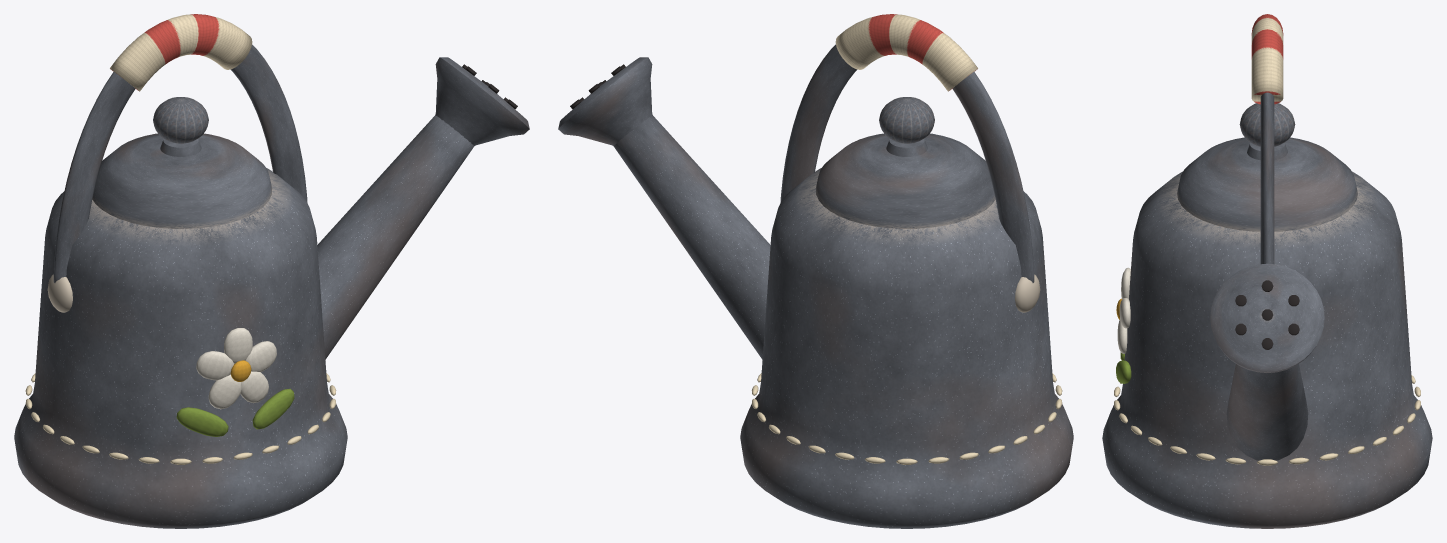
Rendered from watering_can.glb.
The picture shows the model from 3 angles, left to right: view 1: azimuth 30°, elevation 25°; view 2: azimuth 150°, elevation 25°; view 3: azimuth 270°, elevation 25°; orthographic projection.
Visible parts, largest first — view 1: model; view 2: model; view 3: model.
Boxes of the visible parts, left/top/right/bottom form: model: left=14, top=14, right=529, bottom=528; model: left=558, top=14, right=1073, bottom=528; model: left=1102, top=14, right=1432, bottom=528.
Size of the model in its own units: 0.4344 by 0.384 by 0.2599.
8 materials, 6 textured.
